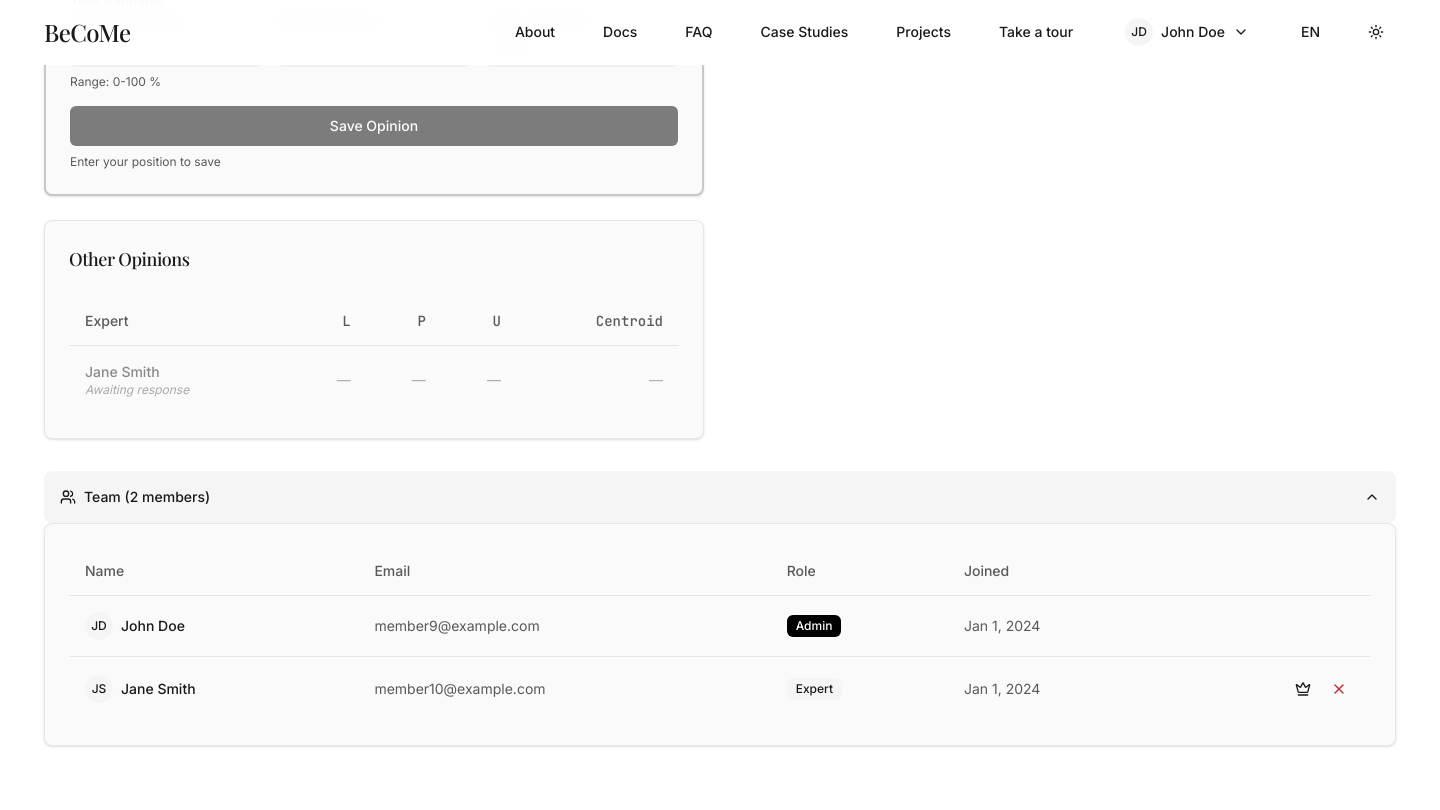
it: ProjectDetail - Team Section › shows the transfer wording, not the delete wording, while the transfer is pending
This screenshot has width=1440, height=810.
(page scrolled)
Click the button named "make jane smith the owner".
click(1303, 689)  # box [1287, 673, 1319, 705]
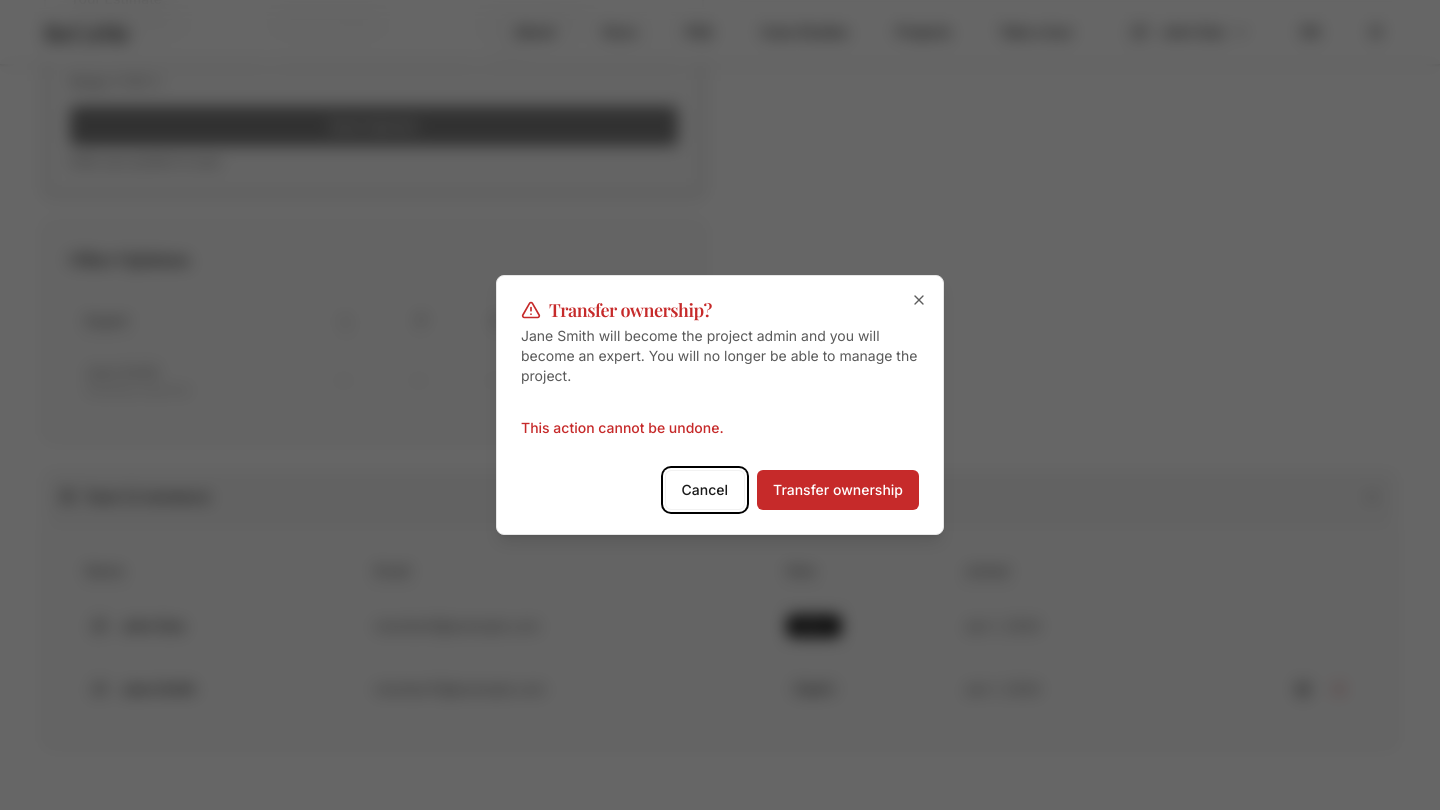
Click the button "Transfer ownership".
click(838, 490)  # box [757, 470, 919, 510]
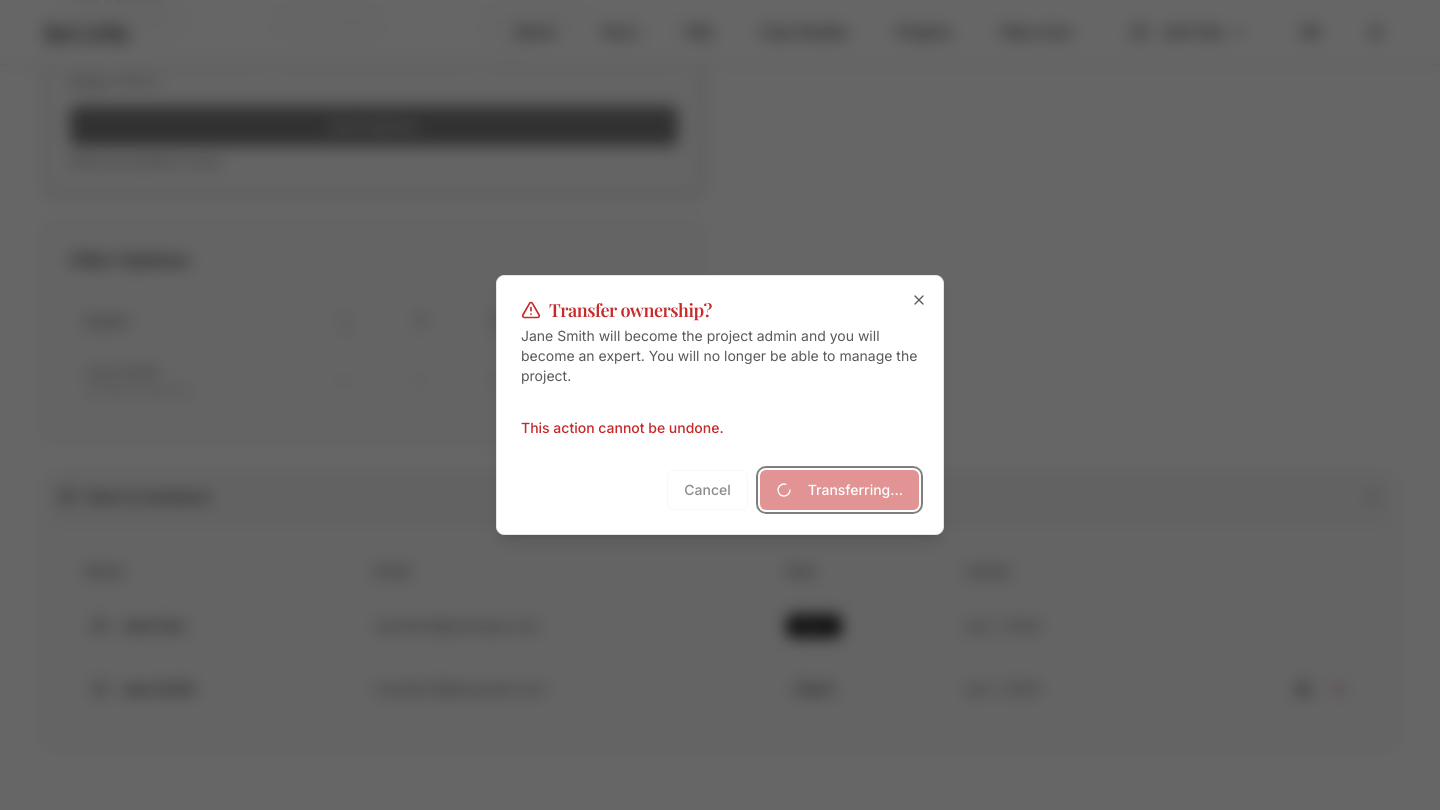
expect the button "Transferring..." is shown: met, box [760, 470, 919, 510]
